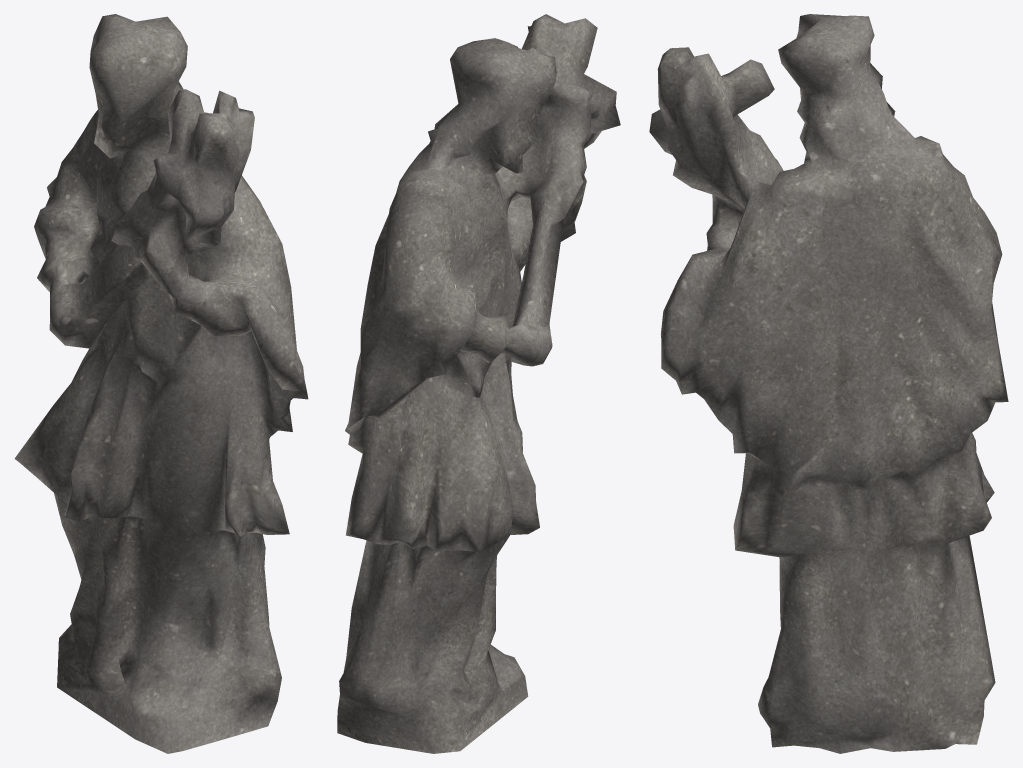
The model's file is SM_Statue_4.fbx.
The picture shows the model from 3 angles, left to right: view 1: azimuth 30°, elevation 25°; view 2: azimuth 150°, elevation 25°; view 3: azimuth 270°, elevation 25°; orthographic projection. The views are drawn at different scales.
Parts seen in each view (by area): view 1: SM_Statue_4_LOD0; view 2: SM_Statue_4_LOD0; view 3: SM_Statue_4_LOD0.
Boxes of the visible parts, x1,y1,x2,y2 form: SM_Statue_4_LOD0: (14, 14, 308, 753); SM_Statue_4_LOD0: (337, 14, 620, 753); SM_Statue_4_LOD0: (649, 14, 1008, 753).
Bounding box in the file's own units: 70.15 × 118 × 248.
